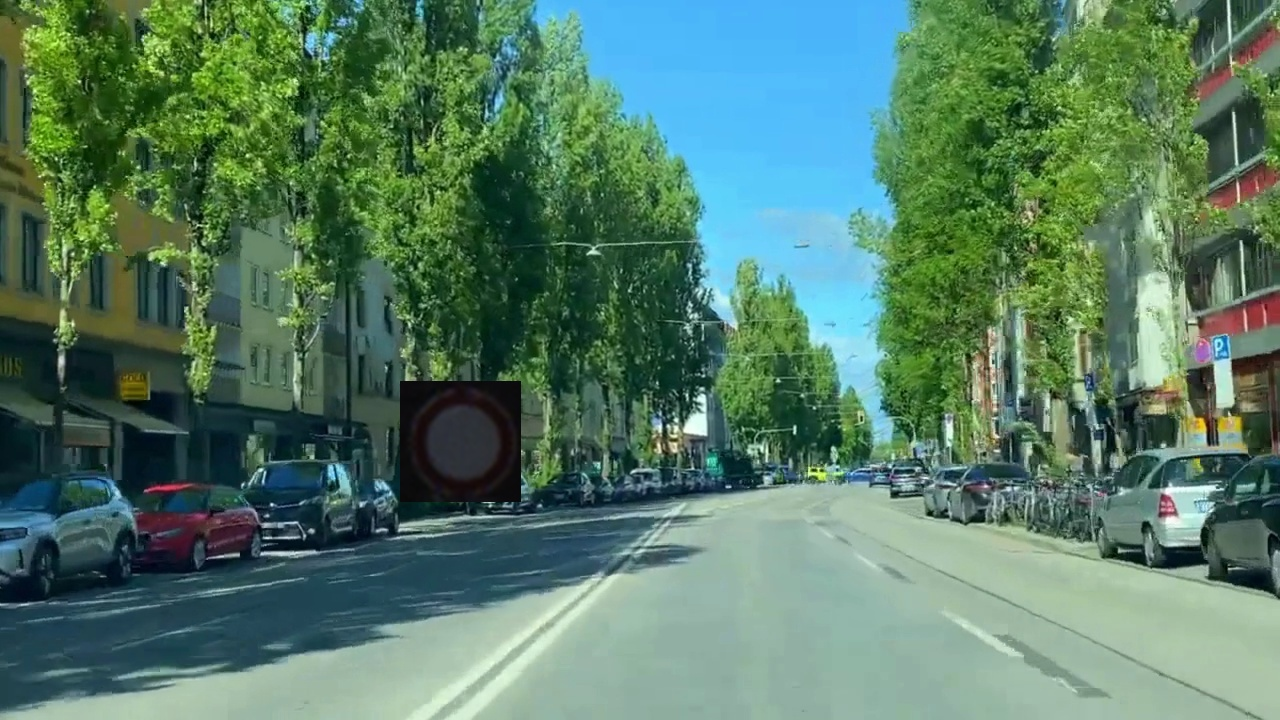No vehicles: (400, 381, 521, 502)
